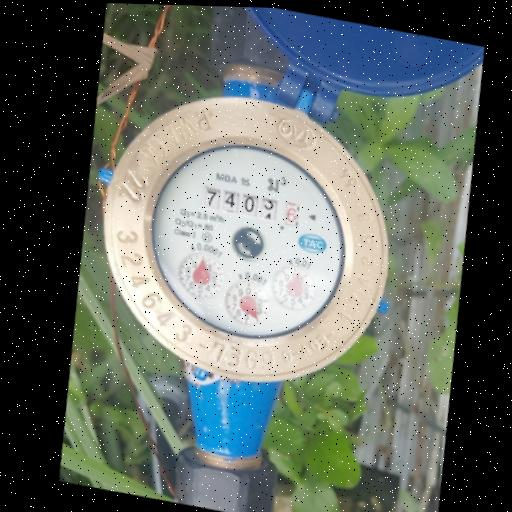0: (241, 194, 258, 217)
3: (260, 197, 279, 221)
4: (221, 190, 240, 214)
6: (283, 201, 300, 226)
7: (202, 187, 221, 210)
border_water_meter_number: (199, 184, 302, 228)
